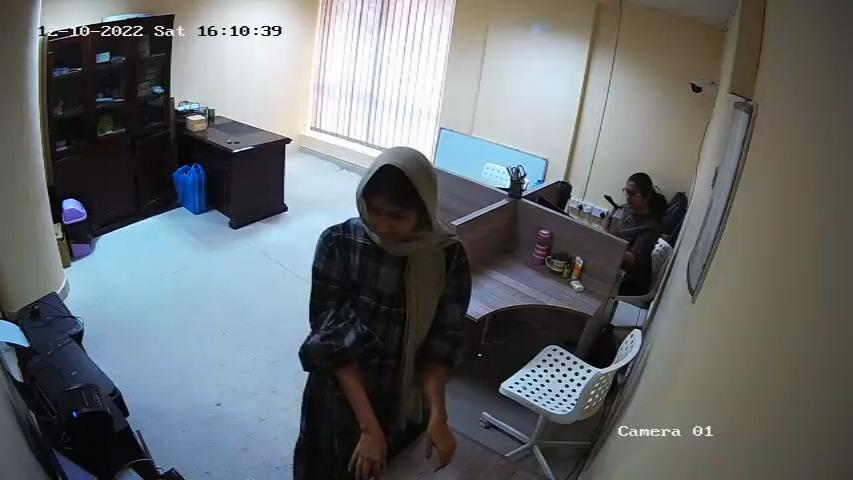no_gloves: (422, 422, 463, 479), (346, 427, 388, 480)
